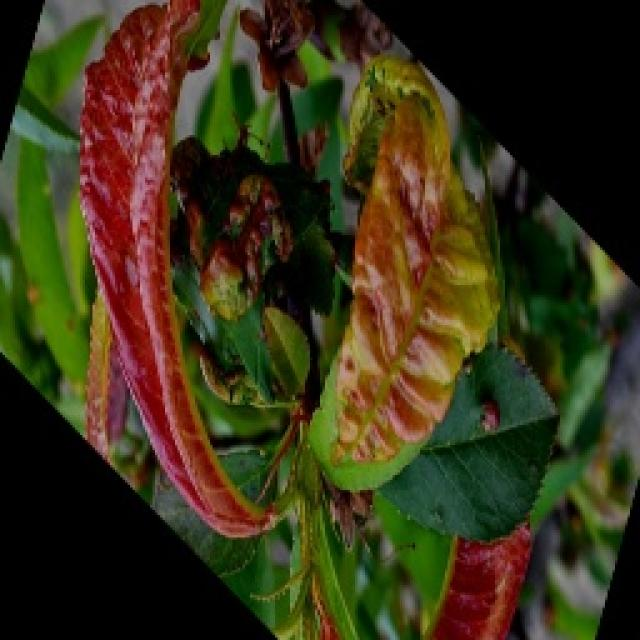peach_leaf_curl: (72, 0, 542, 638)
